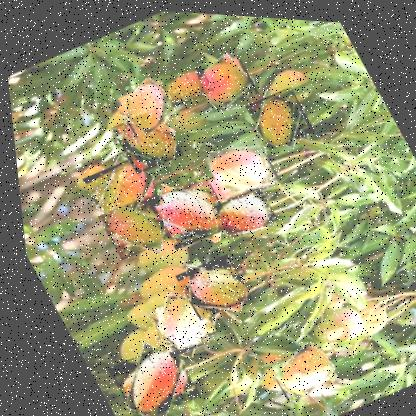mango: (95, 335, 196, 415), (141, 169, 231, 252), (75, 149, 164, 229), (133, 285, 215, 361), (166, 247, 249, 322), (197, 128, 278, 201), (89, 189, 170, 262), (106, 103, 183, 175), (256, 334, 335, 402), (240, 79, 315, 150), (108, 71, 183, 139), (187, 46, 260, 112), (204, 180, 276, 240), (156, 60, 216, 110)
